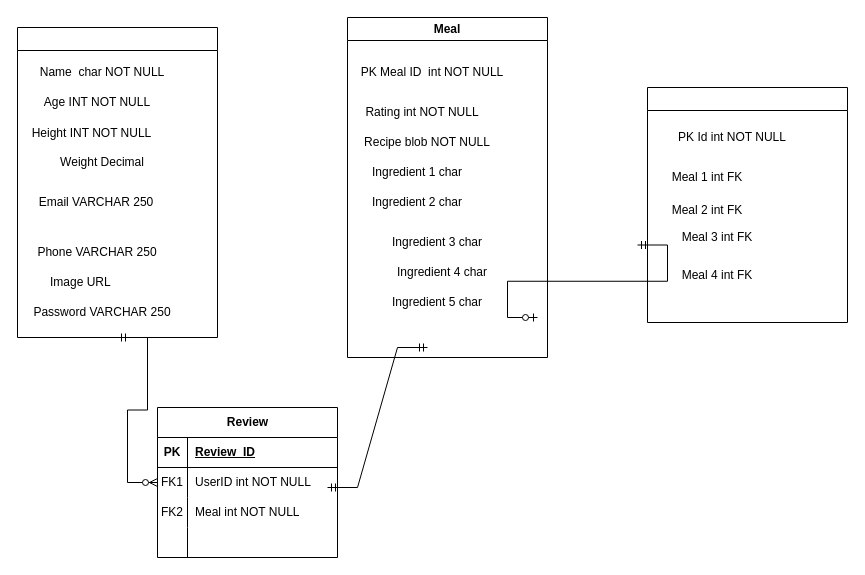
Some shapes in this 865 by 575 pixel diagram are drawn without their labels. The box of each missing label's shape, as (x1, y1, x2, y2) in pixels:
Meal Category: (646, 86, 848, 322)
User: (16, 26, 218, 338)
